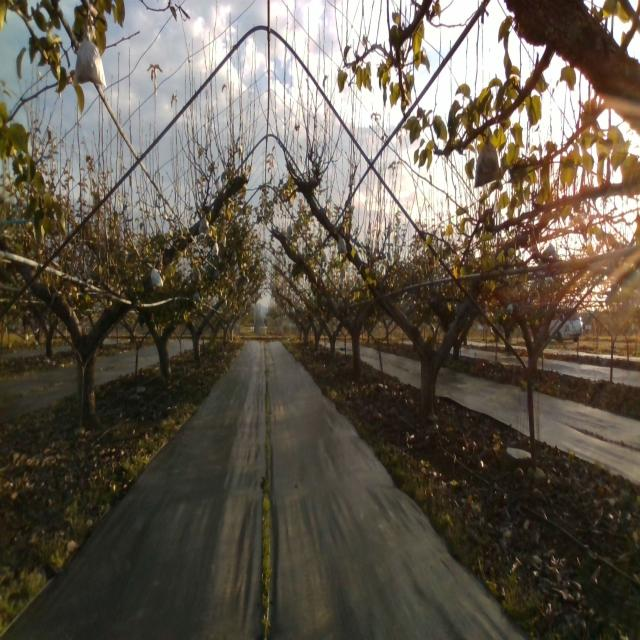pearbags: (72, 38, 103, 87), (474, 134, 501, 189), (151, 264, 164, 290), (198, 215, 210, 236), (337, 233, 348, 254)
